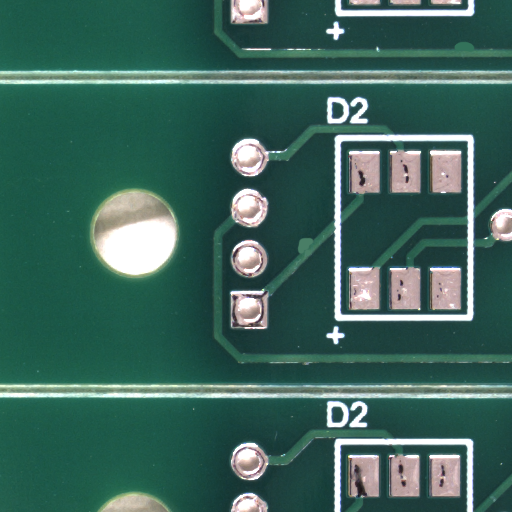Spur: (464, 47, 485, 62)
